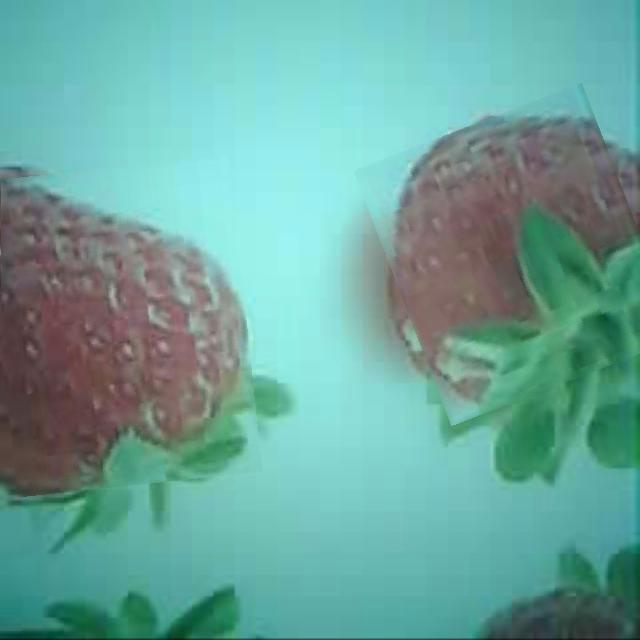strawberry: (0, 162, 254, 491), (375, 100, 640, 409)
